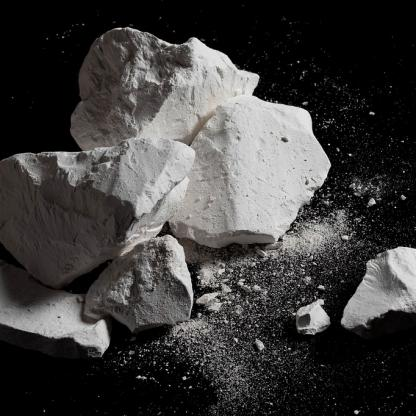Sedimentary_Chalk: (19, 18, 234, 266)
